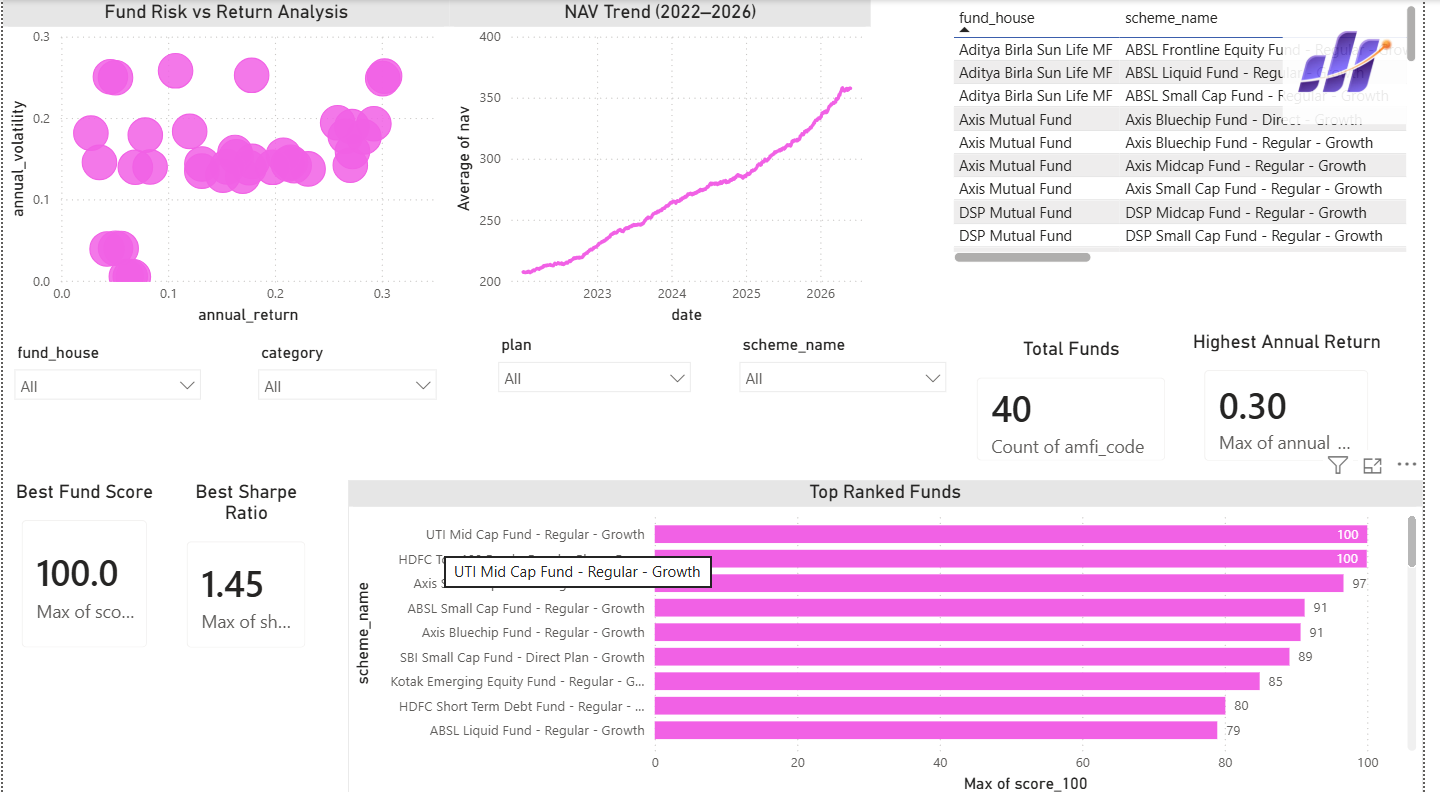

This screenshot's page, from the dashboard's own definition file:
{"tool":"powerbi","page":{"name":"Fund Performance","canvas":[1280,720],"ordinal":1},"visuals":[{"type":"scatterChart","title":"Fund Risk vs Return Analysis","fields":{"X":["sharpe_values.annual_return"],"Y":["sharpe_values.annual_volatility"],"Size":["Max(fund_scorecard.score_100)"]},"box":[0,0,402.9,297.1],"z":0},{"type":"tableEx","fields":{"Values":["clean_fund_master.fund_house","clean_fund_master.scheme_name","Min(fund_scorecard.overall_rank)","Sum(fund_scorecard.score_100)","sharpe_values.sharpe_ratio","Sum(alpha_beta.alpha)","Sum(max_drawdown.max_drawdown)","Sum(clean_fund_master.expense_ratio_pct)","sharpe_values.annual_return"]},"box":[851.4,0,428.6,241.4],"z":1000},{"type":"lineChart","title":"NAV Trend (2022–2026)","fields":{"Y":["Avg(clean_nav.nav)"],"Category":["clean_nav.date"]},"box":[402.9,0,380,297.1],"z":2000},{"type":"slicer","fields":{"Values":["clean_fund_master.category"]},"box":[220,304.3,181.4,128.6],"z":3000},{"type":"slicer","fields":{"Values":["clean_fund_master.plan"]},"box":[435.7,297.1,194.3,135.7],"z":4000},{"type":"slicer","fields":{"Values":["clean_fund_master.scheme_name"]},"box":[654.3,297.1,207.1,135.7],"z":5000},{"type":"slicer","fields":{"Values":["clean_fund_master.fund_house"]},"box":[0,304.3,188.6,128.6],"z":6000},{"type":"cardVisual","title":"Best Fund Score","fields":{"Data":["Max(fund_scorecard.score_100)"]},"box":[0,432.9,147.1,168.6],"z":7000},{"type":"cardVisual","title":"Best Sharpe Ratio","fields":{"Data":["Max(sharpe_values.sharpe_ratio)"]},"box":[148.6,432.9,141.4,168.6],"z":8000},{"type":"cardVisual","title":"Highest Annual Return","fields":{"Data":["Max(sharpe_values.annual_return)"]},"box":[1065.7,297.1,182.9,135.7],"z":9000},{"type":"cardVisual","title":"Total Funds","fields":{"Data":["Count(sharpe_values.amfi_code)"]},"box":[861.4,304.3,204.3,128.6],"z":10000},{"type":"clusteredBarChart","title":"Top Ranked Funds","fields":{"Category":["clean_fund_master.scheme_name"],"Y":["Max(fund_scorecard.score_100)"]},"box":[311.4,432.9,968.6,287.1],"z":11000},{"type":"image","box":[1140,0,140,111.7],"z":11001}]}

Visuals, with their boxes in screenshot pixels (x1, y1, x2, y2), scaled from the page's 1280x720 canvas onto the 1440x792 screenshot:
"Fund Risk vs Return Analysis" scatterChart: [0, 0, 453, 327]
tableEx - clean_fund_master.fund_house x clean_fund_master.scheme_name: [958, 0, 1439, 266]
"NAV Trend (2022–2026)" lineChart: [453, 0, 881, 327]
slicer - clean_fund_master.category: [248, 335, 452, 476]
slicer - clean_fund_master.plan: [490, 327, 709, 476]
slicer - clean_fund_master.scheme_name: [736, 327, 969, 476]
slicer - clean_fund_master.fund_house: [0, 335, 212, 476]
"Best Fund Score" cardVisual: [0, 476, 165, 662]
"Best Sharpe Ratio" cardVisual: [167, 476, 326, 662]
"Highest Annual Return" cardVisual: [1199, 327, 1405, 476]
"Total Funds" cardVisual: [969, 335, 1199, 476]
"Top Ranked Funds" clusteredBarChart: [350, 476, 1439, 791]
image: [1282, 0, 1439, 123]
